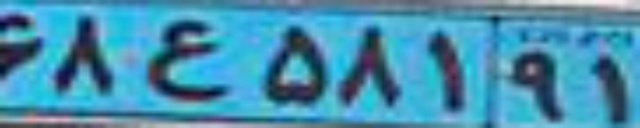1: (423, 30, 466, 109), (588, 52, 628, 122)
5: (263, 25, 325, 104)
6: (0, 11, 43, 98)
8: (49, 14, 121, 98), (338, 25, 399, 107)
9: (508, 48, 565, 121)
ain: (143, 19, 229, 102)
